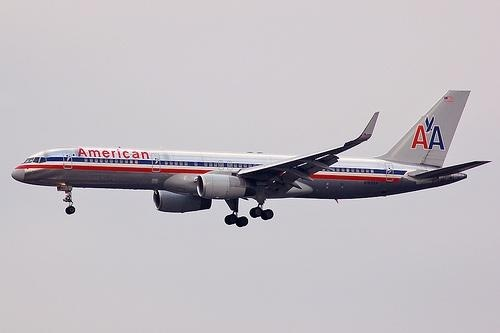aeroplane: (10, 89, 493, 230)
